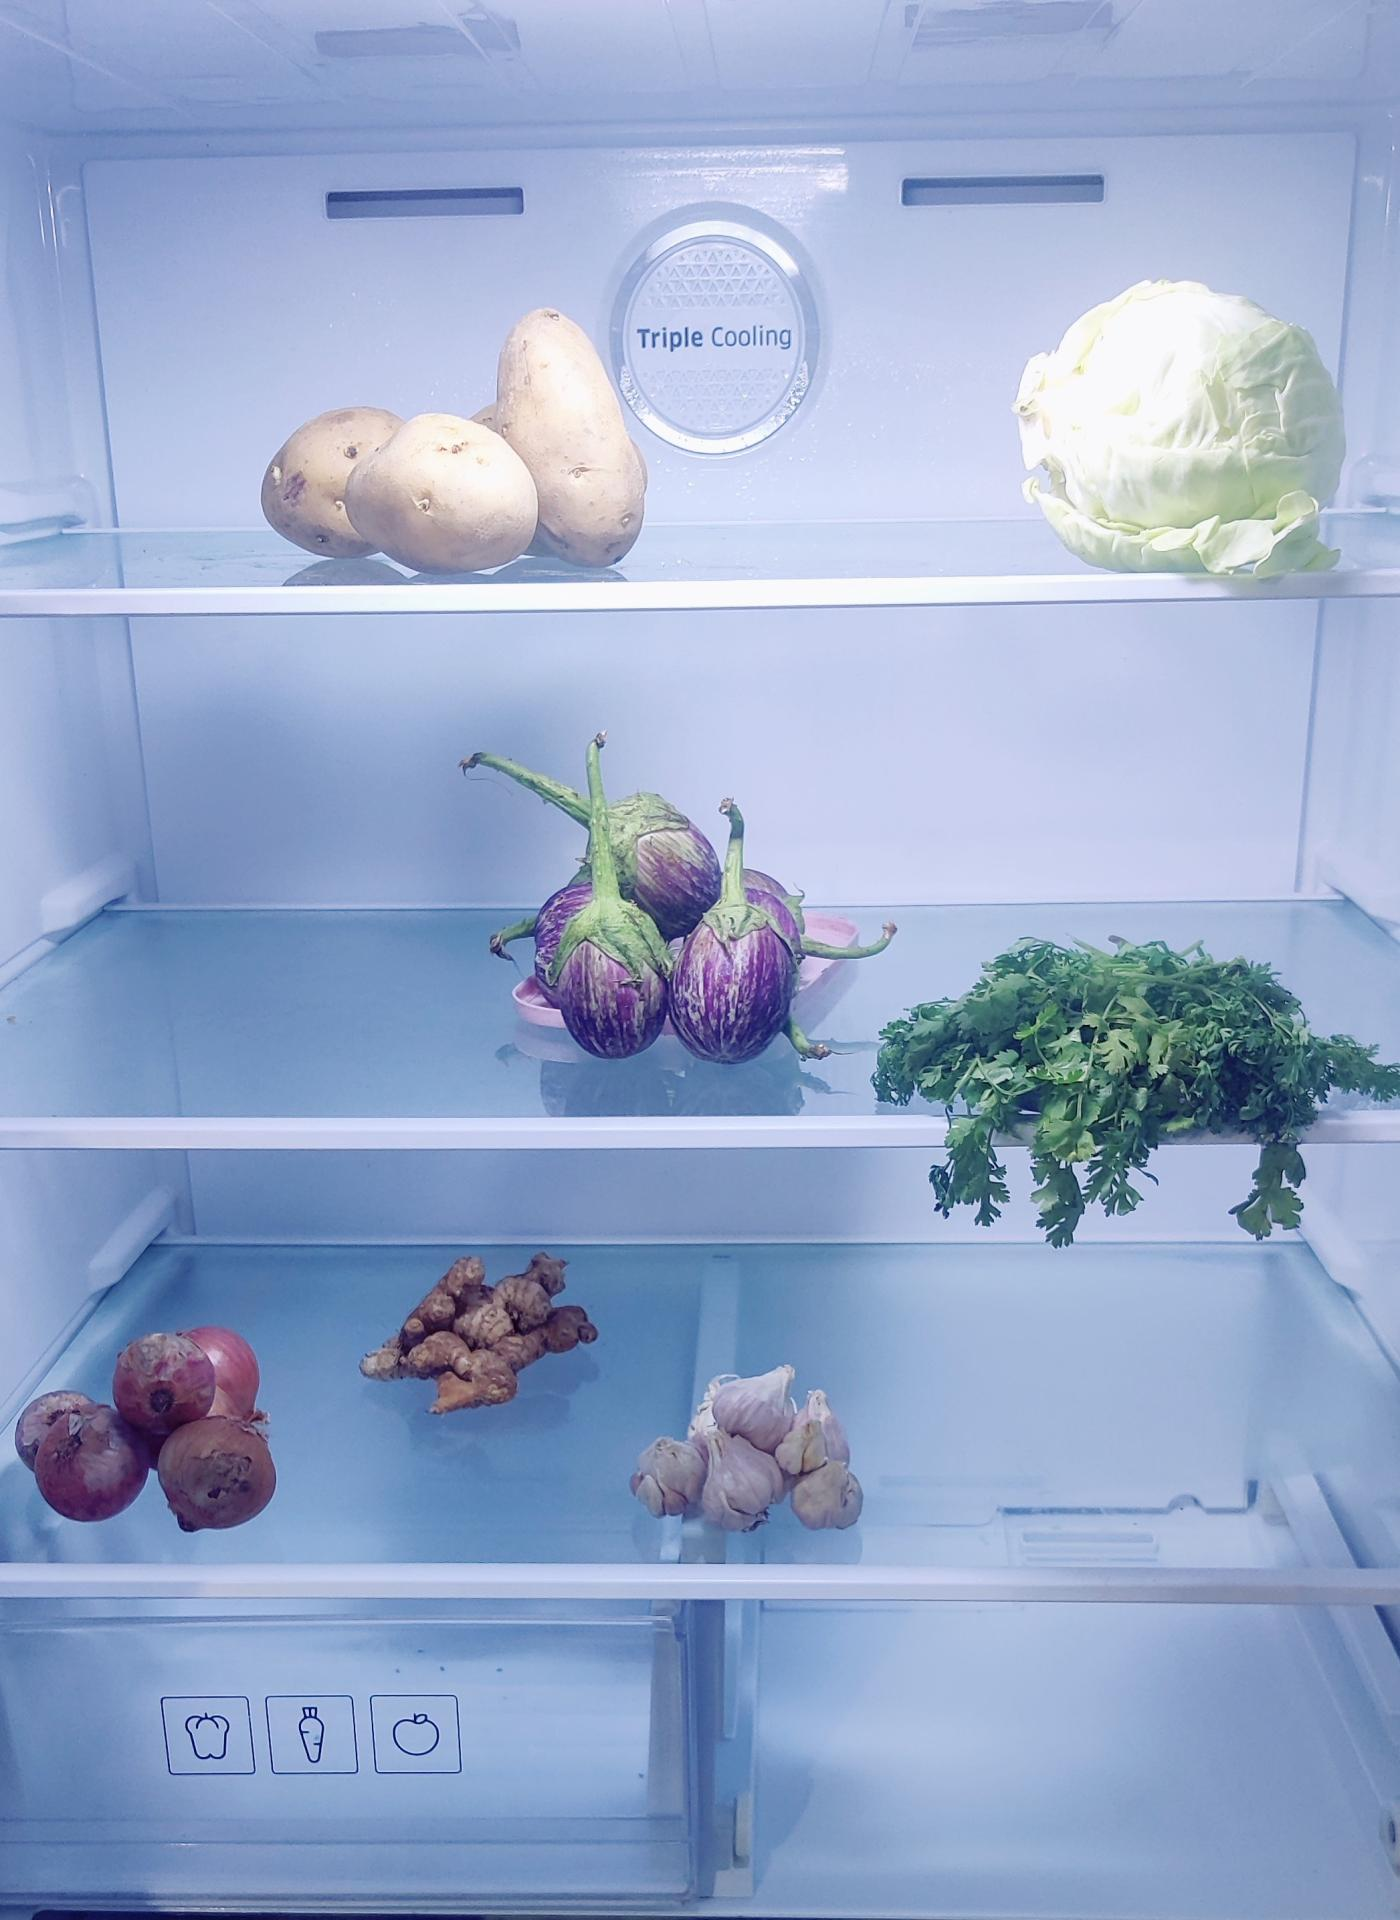brinjal: (531, 768, 799, 1060)
cabbage: (1026, 282, 1345, 563)
coriander: (895, 939, 1354, 1190)
garlic: (626, 1371, 871, 1541)
ginger: (367, 1251, 592, 1412)
onion: (15, 1316, 276, 1535)
potato: (261, 309, 647, 575)
